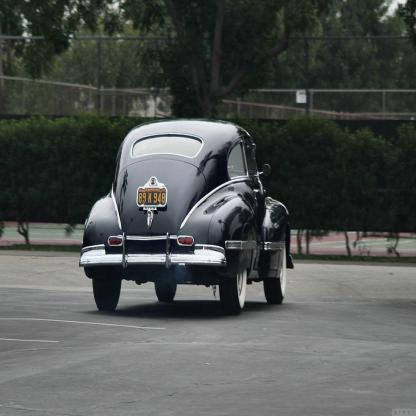car: (79, 118, 293, 311)
